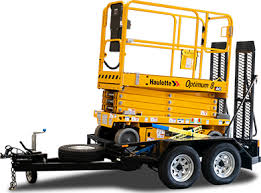Scissor Lift: (9, 1, 261, 190)
